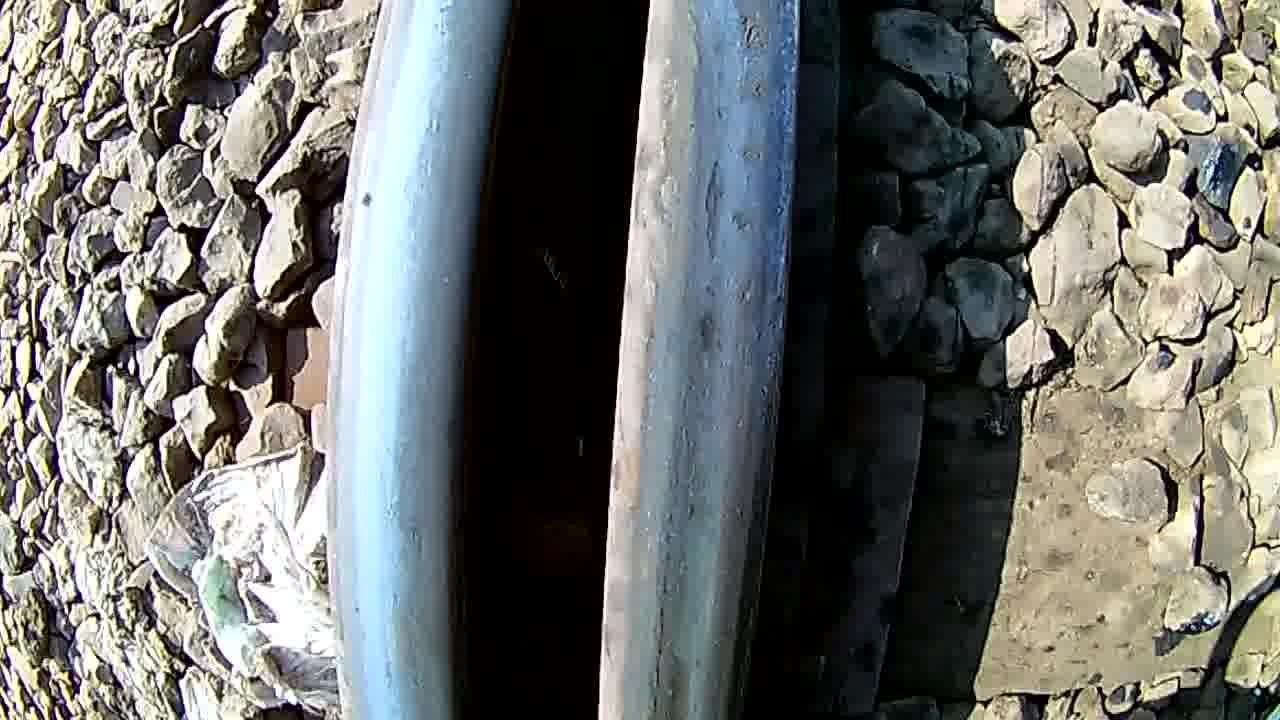crack: (638, 7, 804, 720)
